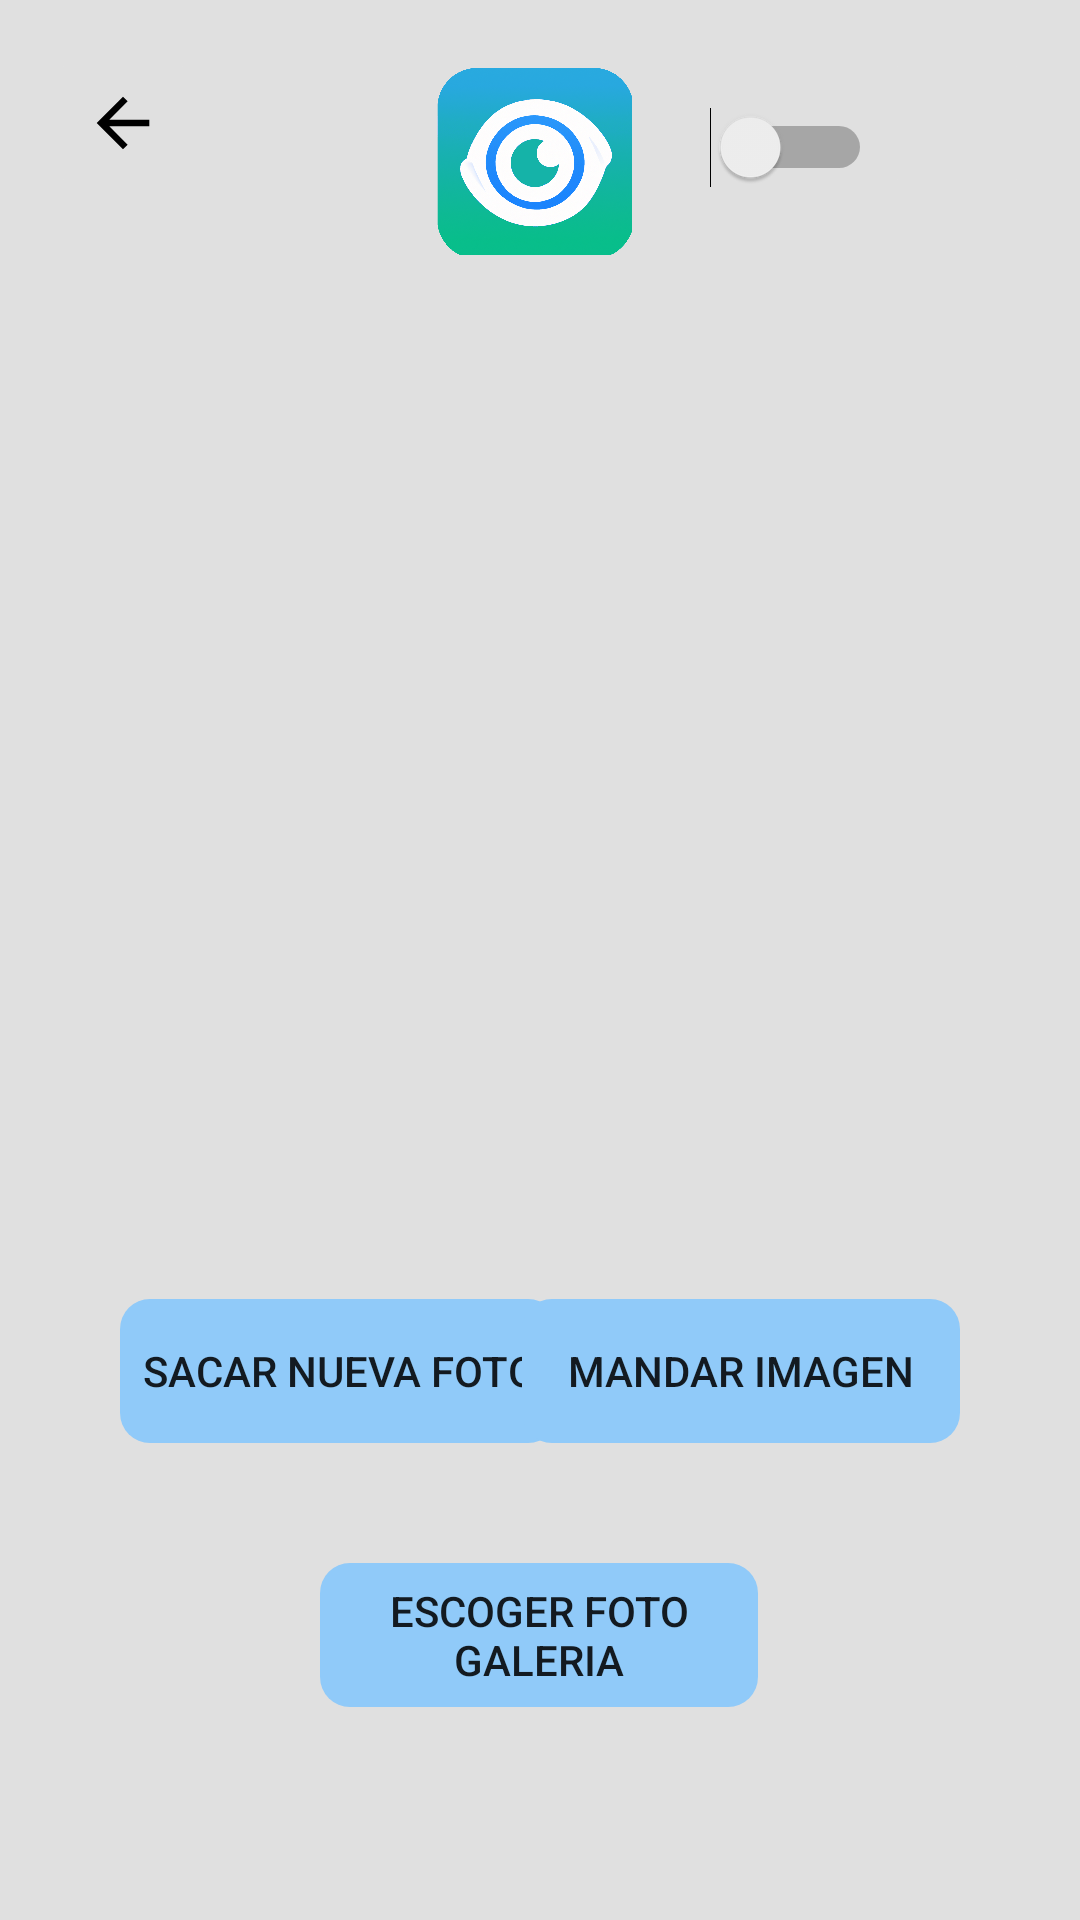

Point at icon controls on the screen. Image size 1080w x 1920h, points as (x=x, y=y).
back: (x=123, y=123)
